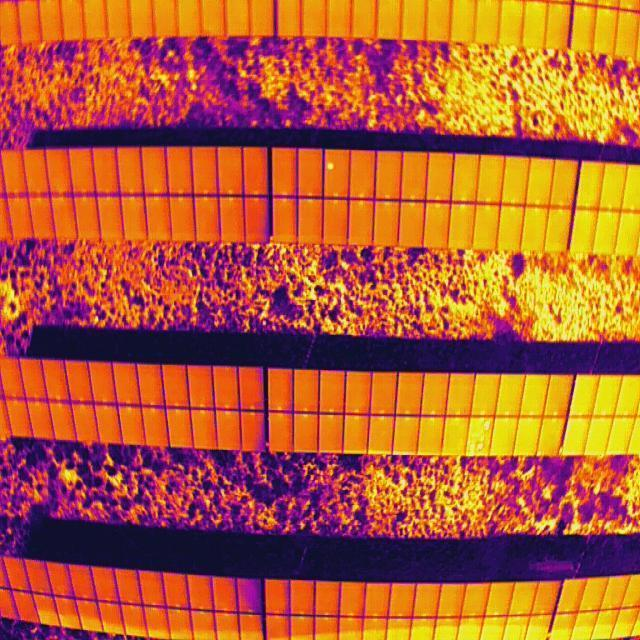panel: (140, 144, 169, 196), (164, 143, 193, 195), (190, 144, 219, 196), (214, 145, 243, 197), (239, 146, 268, 198), (269, 145, 298, 197), (295, 147, 324, 199), (322, 149, 351, 201), (347, 147, 376, 199), (375, 149, 404, 201), (399, 150, 428, 202), (426, 152, 455, 204), (451, 152, 480, 204), (476, 154, 505, 206), (500, 154, 529, 206), (496, 204, 525, 252), (471, 205, 500, 253), (448, 204, 477, 252), (423, 202, 452, 250), (398, 199, 427, 247), (372, 198, 401, 246), (345, 199, 374, 247), (321, 199, 350, 247), (295, 198, 324, 246), (270, 196, 299, 244), (243, 195, 272, 243), (218, 196, 247, 244), (193, 193, 222, 241), (168, 192, 197, 240), (144, 193, 173, 241), (161, 363, 190, 408), (185, 363, 214, 408), (210, 365, 239, 410), (235, 365, 264, 410), (292, 369, 321, 414), (264, 366, 293, 411), (318, 369, 347, 414), (342, 369, 371, 414), (369, 370, 398, 415), (395, 372, 424, 417), (421, 371, 450, 416), (445, 371, 474, 416), (472, 371, 501, 416), (497, 373, 526, 418), (490, 416, 518, 459), (466, 415, 494, 458), (442, 416, 470, 459), (417, 414, 445, 457), (393, 415, 420, 456), (368, 414, 395, 455), (343, 412, 370, 453), (317, 412, 344, 453), (267, 411, 294, 452), (293, 412, 320, 453), (436, 582, 466, 618), (461, 581, 491, 617), (484, 581, 514, 617), (508, 580, 538, 616), (215, 409, 240, 451), (190, 407, 215, 449), (338, 580, 366, 617), (265, 578, 291, 617), (289, 578, 315, 617), (314, 578, 340, 617), (365, 581, 391, 620), (389, 581, 415, 620), (414, 581, 440, 620), (240, 411, 265, 450)
